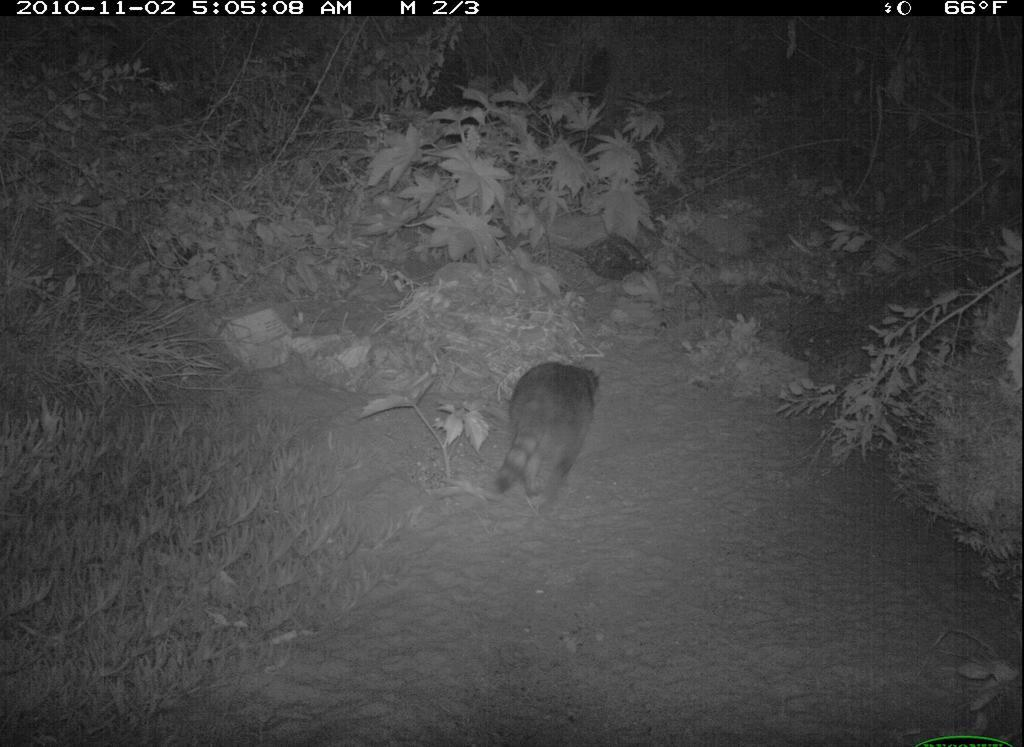raccoon: (489, 358, 606, 514)
